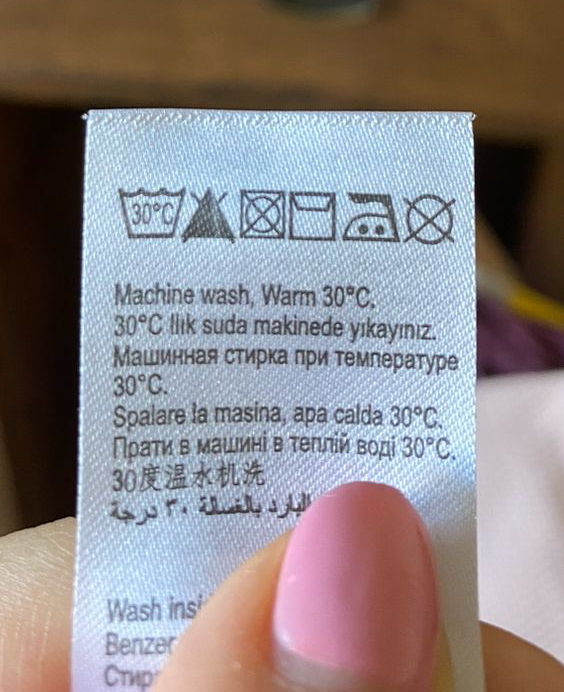do_not_bleach: (178, 186, 236, 246)
do_not_dry_clean: (401, 190, 459, 246)
do_not_tumble_drying: (238, 183, 288, 242)
ironing_at_med_temp: (341, 190, 400, 245)
line_dry: (287, 189, 339, 242)
wash_at_or_below_30: (115, 185, 187, 240)
